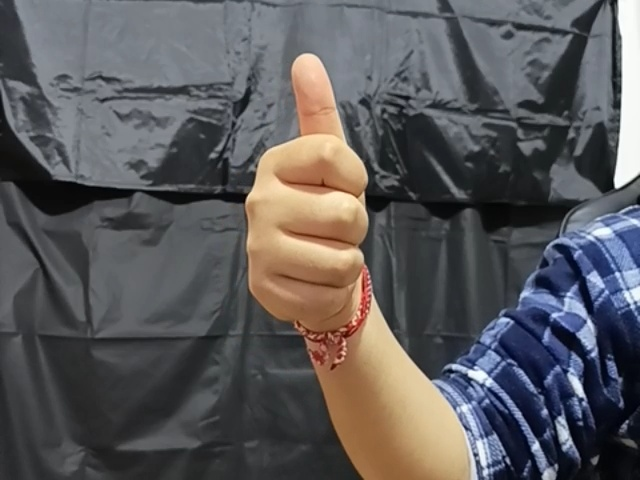A: (235, 49, 378, 322)
